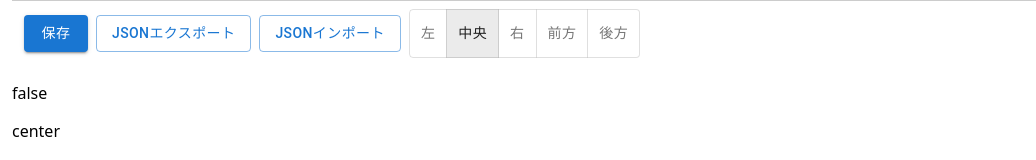
Test case: OperationsBar › カメラ位置を切り替えるとcameraPresetIdが変わりisDirtyはfalseのままになる（仕様: カメラ位置の切り替え）
Expected: the text with test id "camera-preset" reads "center", [12,120,60,142]
Click the button "右" at (517, 33), box [498,9,536,58]
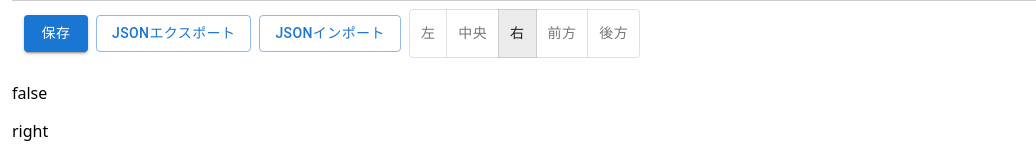
Expected: the text with test id "is-dirty" reads "false", [12,82,47,104]
Expected: the text with test id "camera-preset" reads "right", [12,120,48,142]
